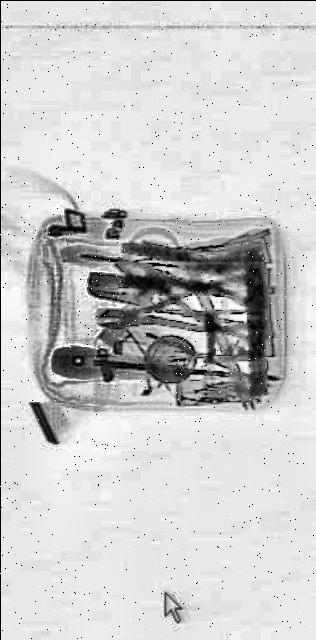Pliers: (111, 232, 250, 342), (96, 273, 248, 343)
